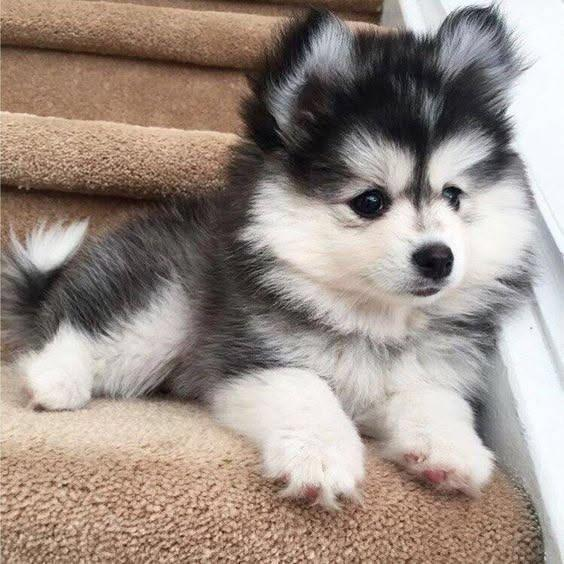puppy-dog: (0, 2, 544, 511)
